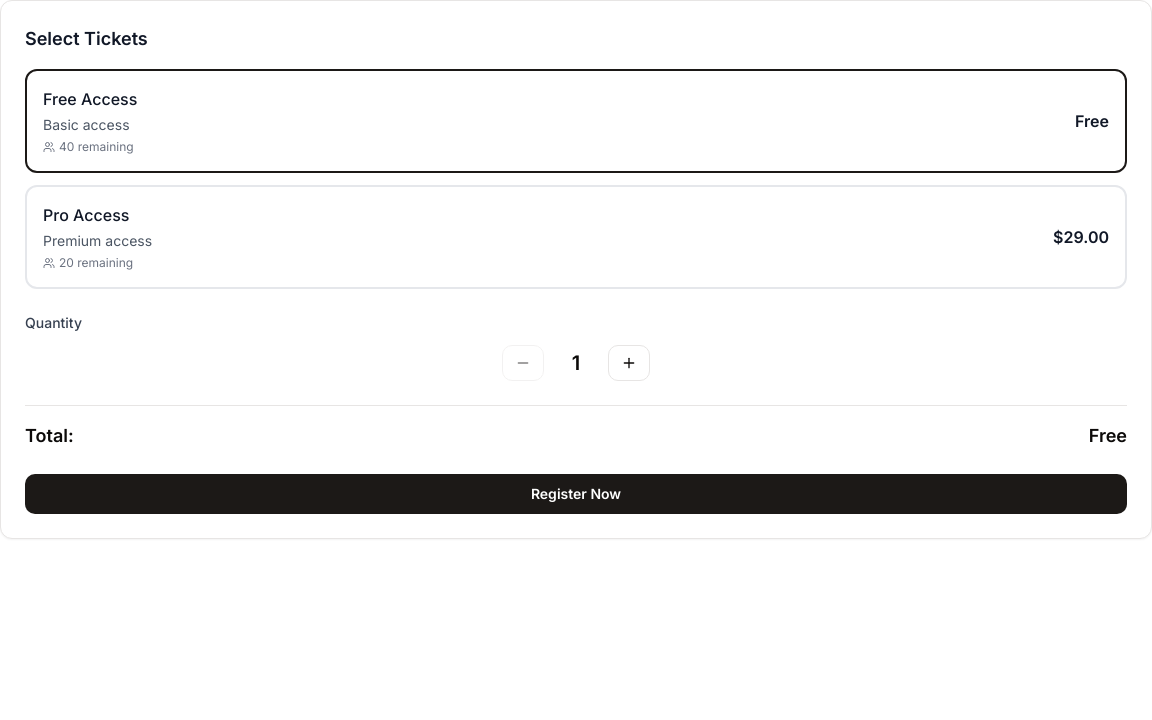
TicketWidget Component › calculates total price correctly
The image size is (1152, 720).
Note: Select paid ticket
Click the element with test id "option-ticket-ticket-2".
click(576, 237)  # box [25,185,1127,289]
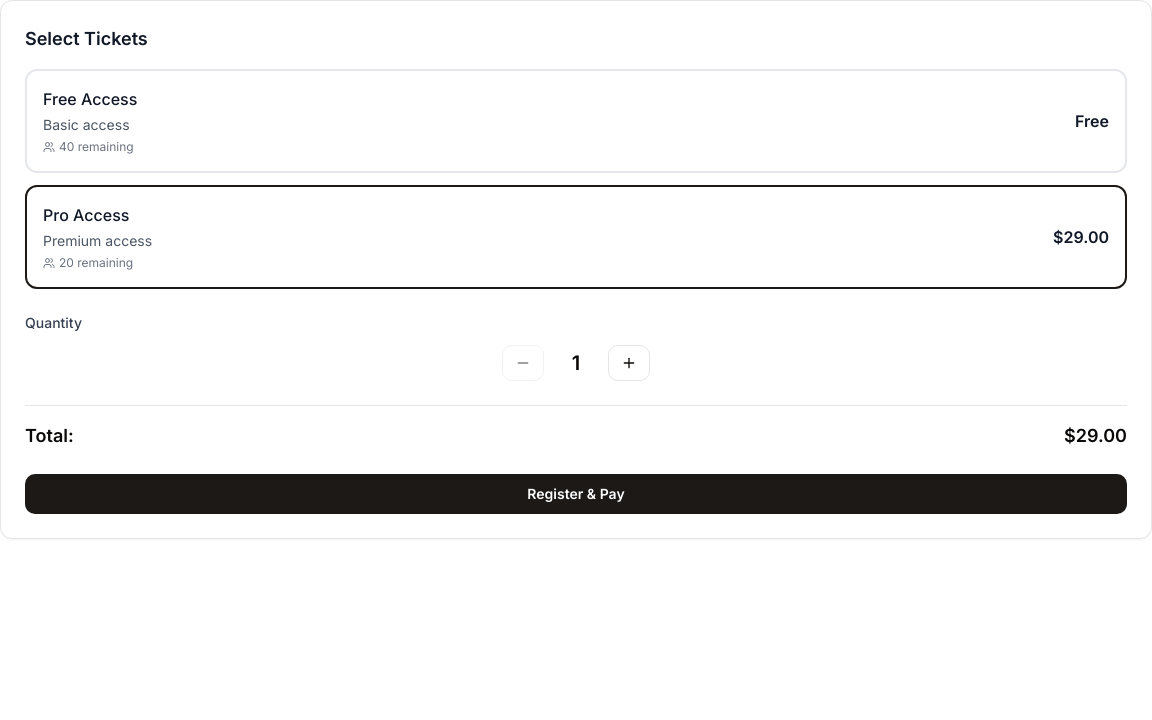
Expected: the text with test id "text-total-price" reads "$29.00", [1064,425,1127,446]
Note: Increase quantity
Click the button with test id "button-increase-quantity".
click(629, 363)  # box [608,345,650,381]
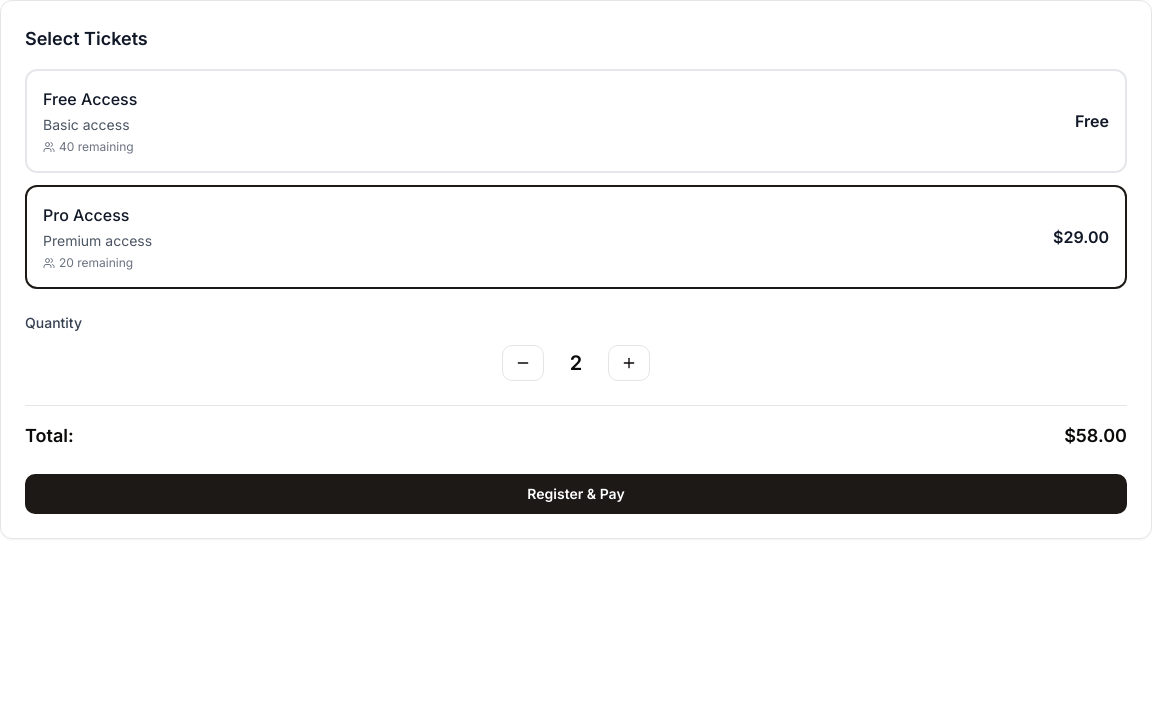
Expected: the text with test id "text-total-price" reads "$58.00", [1064,425,1127,446]
